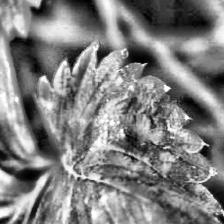Powdery Mildew Leaf: (24, 41, 224, 224)
